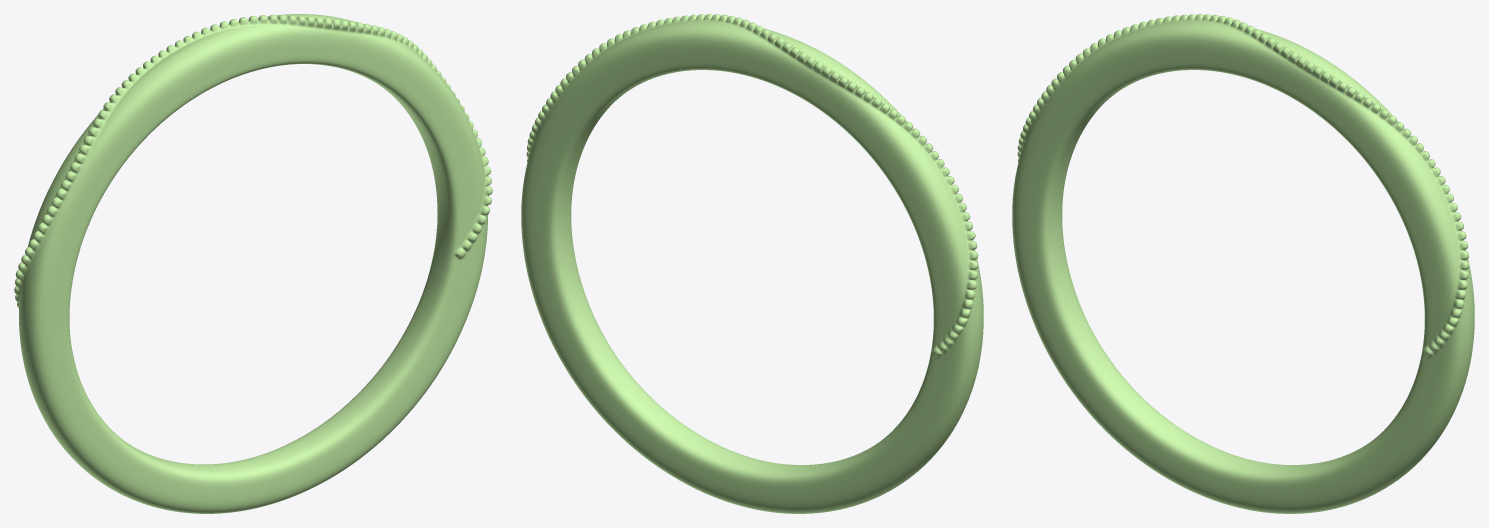
The model's file is BE26784_RENDER.glb.
3 renders of one model, left to right at view 1: azimuth 30°, elevation 25°; view 2: azimuth 150°, elevation 25°; view 3: azimuth 330°, elevation 25°, orthographic.
Parts seen in each view (by area): view 1: Metal03; view 2: Metal03; view 3: Metal03.
Part boxes in pixels (<box>): Metal03: <box>14,14,492,513</box>; Metal03: <box>521,14,983,513</box>; Metal03: <box>1012,14,1474,513</box>.
Bounding box in the file's own units: 20.22 × 20.37 × 1.85.
